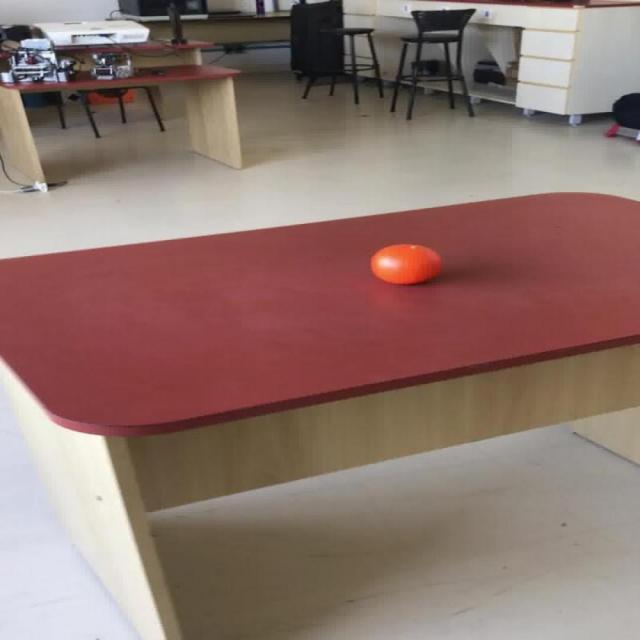Orange: (368, 243, 441, 284)
